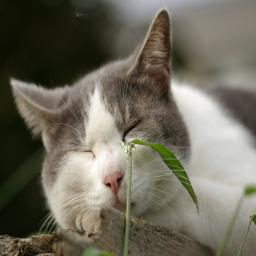catnose: (102, 170, 126, 196)
